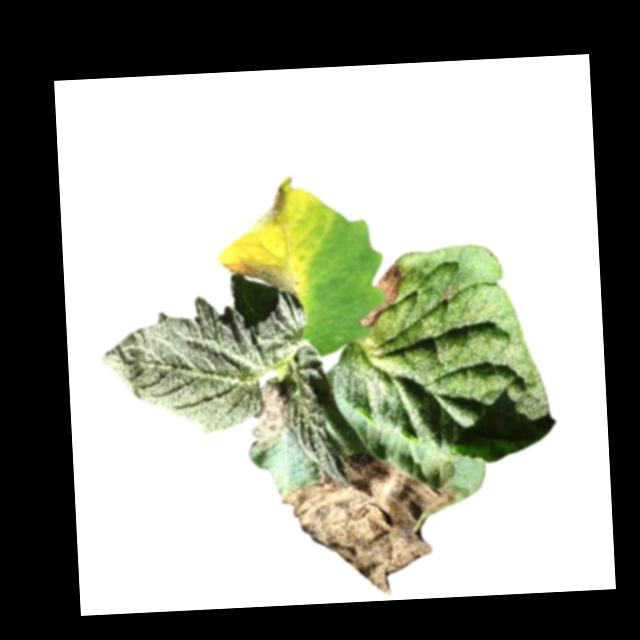Late_blight: (279, 448, 464, 602), (247, 376, 294, 454), (219, 257, 300, 297), (244, 174, 298, 232), (356, 263, 404, 328), (441, 285, 459, 307)
healthy: (94, 270, 312, 440)
